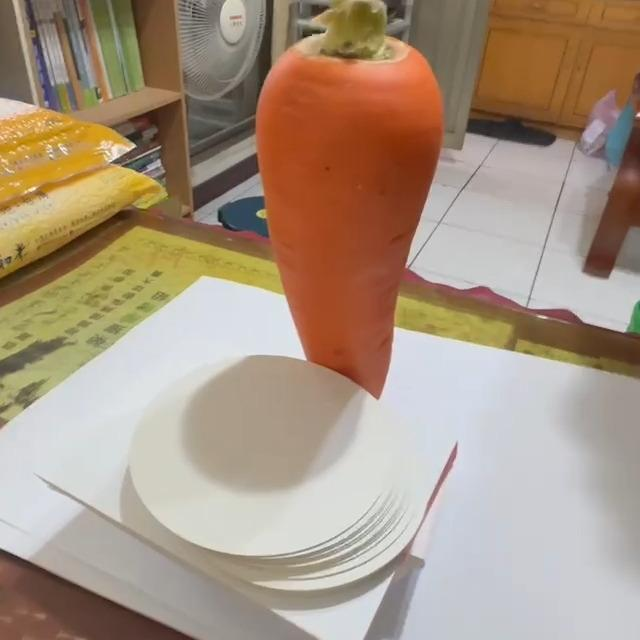carrot: (254, 1, 444, 401)
